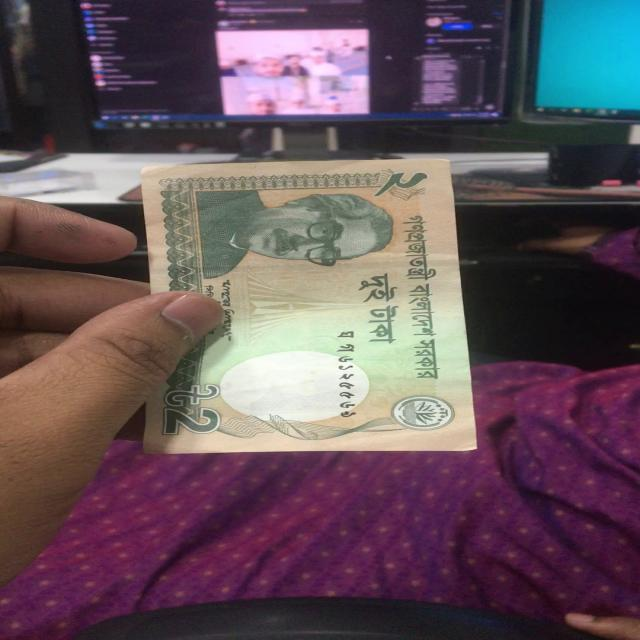Taka: (135, 163, 478, 454)
